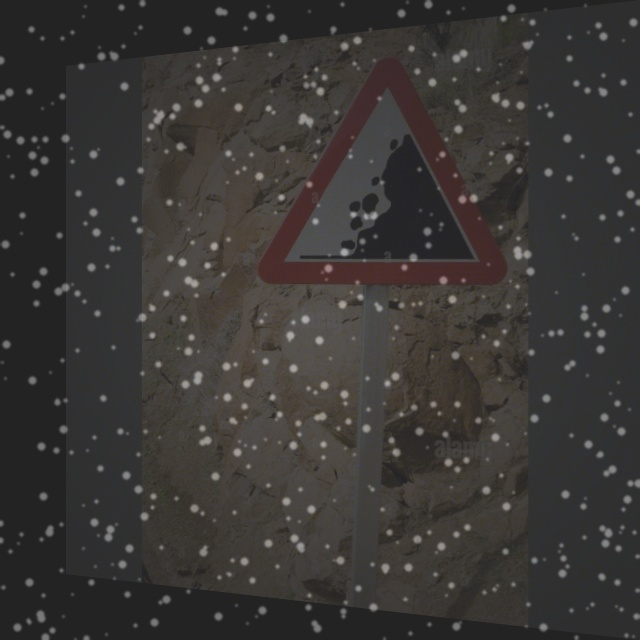Falling_Rocks: (265, 53, 506, 286)
